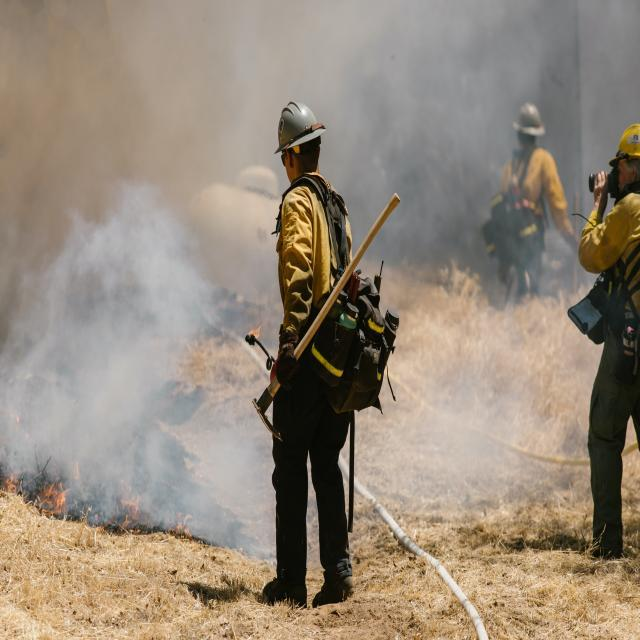Fire: (0, 461, 246, 538)
Smoke: (0, 166, 235, 454)
